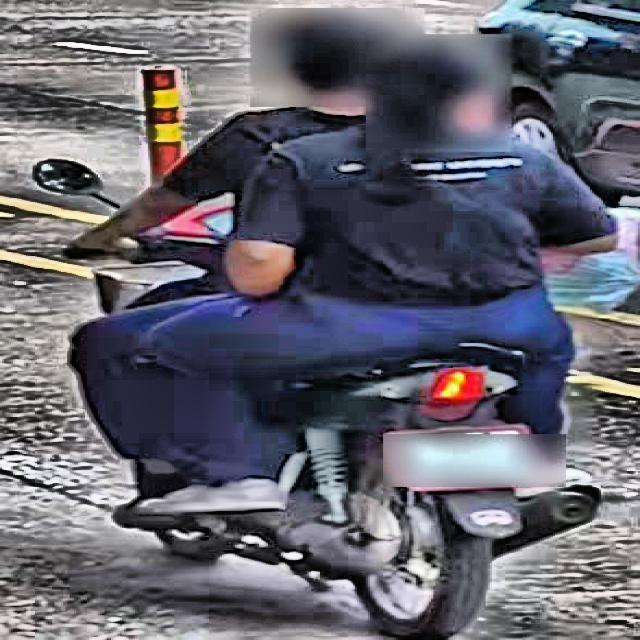motorcycle: (27, 156, 609, 637)
